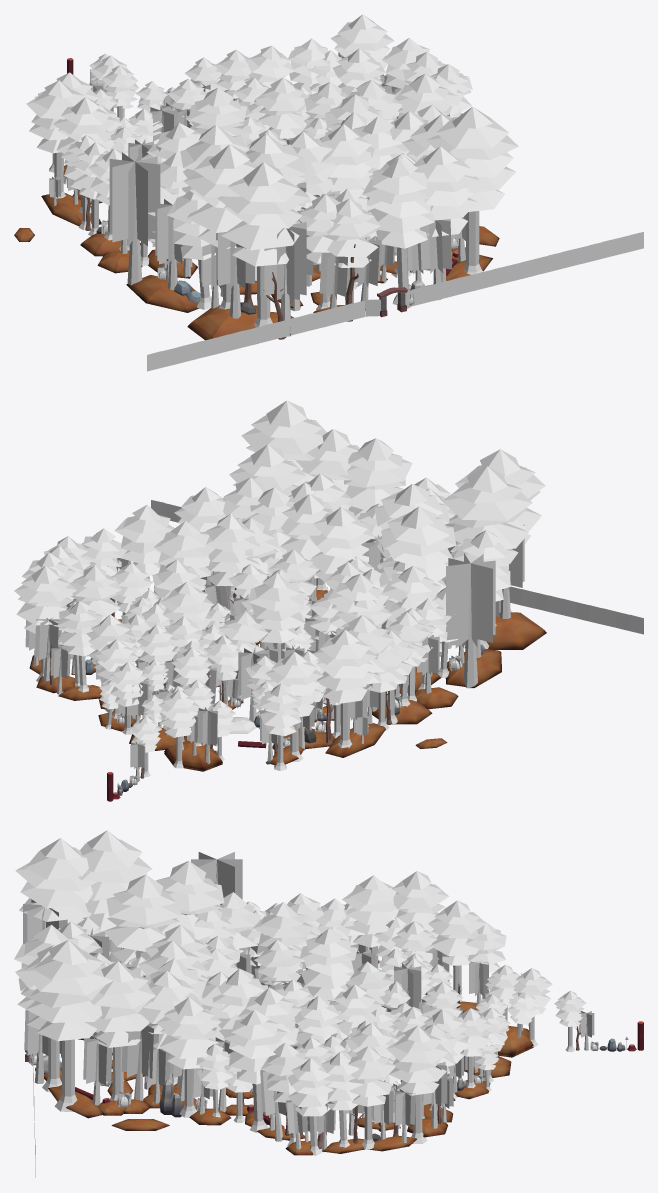
Rendered from florestafinal.fbx.
3 views of the same model, one above another, from view 1: azimuth 30°, elevation 25°; view 2: azimuth 150°, elevation 25°; view 3: azimuth 270°, elevation 25° (orthographic).
Parts seen in each view (by area): view 1: Cylinder.346, Cylinder.391, Cylinder.368, Cylinder.350, Cylinder.347, Cylinder.364, Cylinder.344, Cylinder.167, Cylinder.426, Cylinder.395, Cylinder.086, Cylinder.189 (+46 smaller); view 2: Cylinder.350, Cylinder.347, Cylinder.336, Cylinder.426, Cylinder.368, Cylinder.391, Cylinder.150, Cylinder.337, Cylinder.271, Cylinder.286, Cylinder.277, Cylinder.270 (+58 smaller); view 3: Cylinder.391, Cylinder.346, Cylinder.363, Cylinder.329, Cylinder.347, Cylinder.210, Cylinder.286, Cylinder.277, Cylinder.150, Cylinder.336, Cylinder.189, Cylinder.270 (+65 smaller).
Boxes of the visible parts, <box> form: Cylinder.346: <box>217,162,309,327</box>; Cylinder.391: <box>426,106,518,274</box>; Cylinder.368: <box>362,157,434,304</box>; Cylinder.350: <box>109,151,160,285</box>; Cylinder.347: <box>183,144,257,309</box>; Cylinder.364: <box>413,146,479,284</box>; Cylinder.344: <box>322,198,380,304</box>; Cylinder.167: <box>320,124,373,197</box>; Cylinder.426: <box>26,80,84,198</box>; Cylinder.395: <box>264,222,306,336</box>; Cylinder.086: <box>255,77,308,139</box>; Cylinder.189: <box>53,97,117,213</box>; Cylinder.350: <box>446,553,495,688</box>; Cylinder.347: <box>442,466,532,626</box>; Cylinder.336: <box>380,506,456,592</box>; Cylinder.426: <box>313,629,377,748</box>; Cylinder.368: <box>338,438,412,517</box>; Cylinder.391: <box>241,400,326,486</box>; Cylinder.150: <box>248,572,306,659</box>; Cylinder.337: <box>309,507,374,580</box>; Cylinder.271: <box>203,514,260,613</box>; Cylinder.286: <box>14,565,76,682</box>; Cylinder.277: <box>114,504,174,589</box>; Cylinder.270: <box>265,651,323,761</box>; Cylinder.391: <box>23,940,113,1111</box>; Cylinder.346: <box>15,838,97,928</box>; Cylinder.363: <box>84,961,155,1100</box>; Cylinder.329: <box>104,874,181,964</box>; Cylinder.347: <box>78,830,152,961</box>; Cylinder.210: <box>157,997,221,1117</box>; Cylinder.286: <box>386,1025,448,1143</box>; Cylinder.277: <box>223,1009,287,1132</box>; Cylinder.150: <box>299,928,357,1004</box>; Cylinder.336: <box>156,861,224,944</box>; Cylinder.189: <box>342,875,398,968</box>; Cylinder.270: <box>428,900,486,1002</box>.
Bounding box in the file's own units: 89308 × 34214 × 99239.
